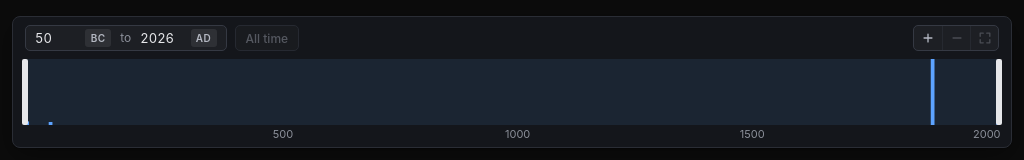
Test: TimeBar zoom › zooming in narrows the handles' span and hides bars outside the view; Reset zoom restores it
Expected: the button named "Zoom out" is disabled, [942,26,970,50]
Step 1. Click the button named "Zoom in" → x=928, y=38, box [914,26,942,50]
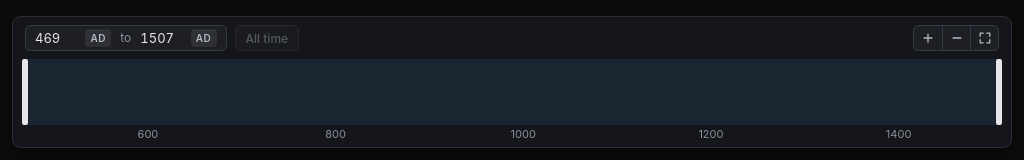
Expected: the button named "Zoom out" is enabled, [942,26,970,50]
Step 2. Click the button named "Reset zoom" → x=984, y=38, box [970,26,998,50]
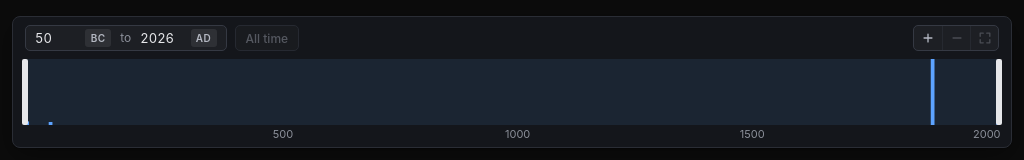
Expected: the button named "Zoom out" is disabled, [942,26,970,50]
